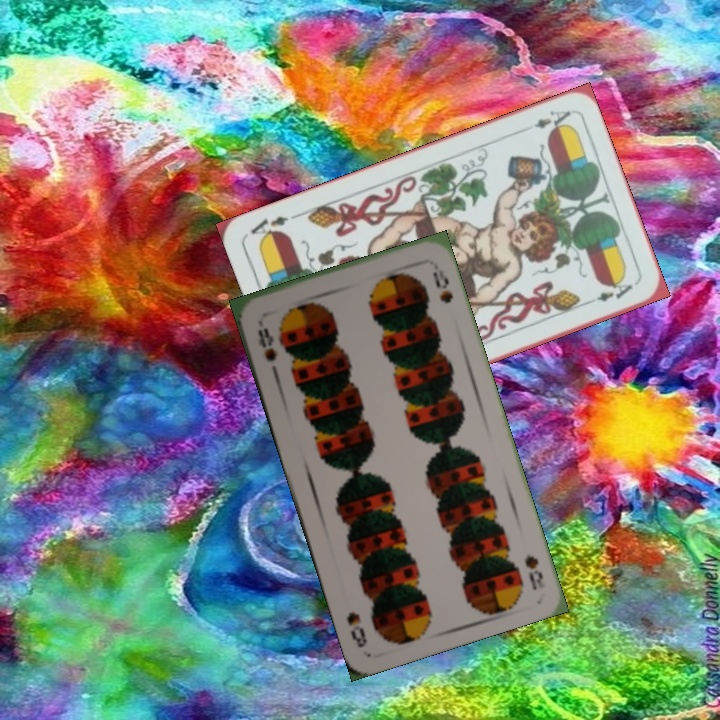EA: (516, 106, 574, 135)
S8: (520, 549, 548, 593), (253, 324, 280, 364)
